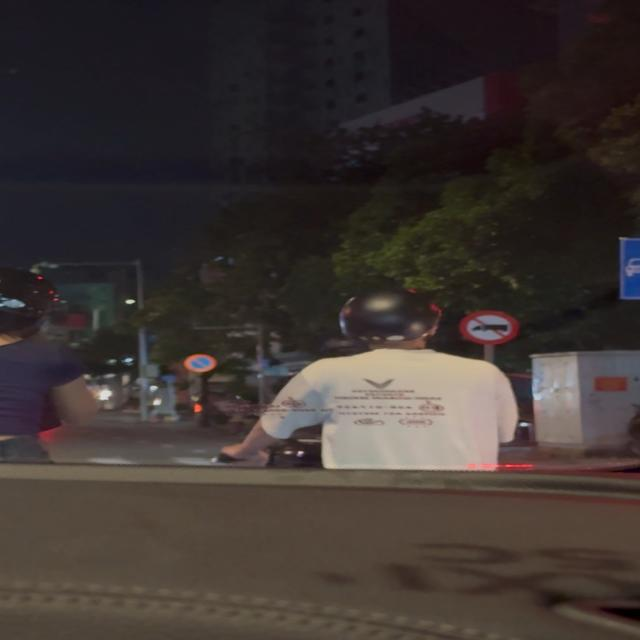Bien bao cam do xe: (180, 352, 221, 374)
Bien bao cam xe so-mi ro-mooc: (456, 309, 523, 344)
